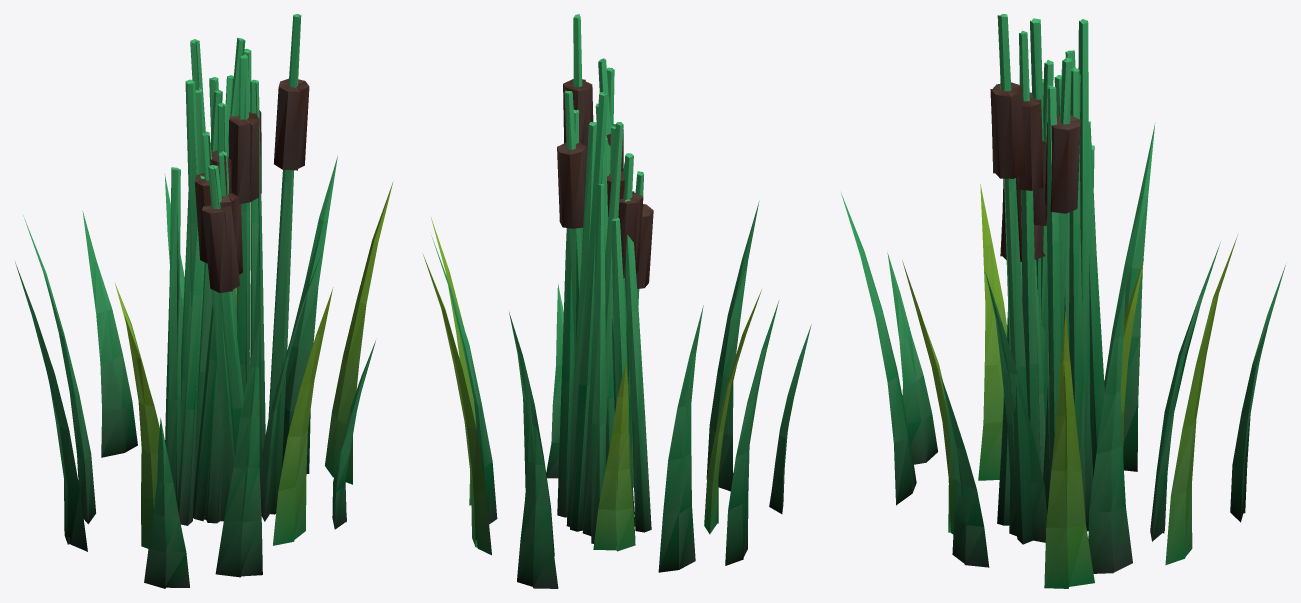
Rendered from vegetasi_reeds_emerald_369993.glb.
3 views of the same model, side by side, from view 1: azimuth 30°, elevation 25°; view 2: azimuth 150°, elevation 25°; view 3: azimuth 270°, elevation 25° (orthographic). The views are drawn at different scales.
Parts seen in each view (by area): view 1: Alang_Alang_Air_Sungai; view 2: Alang_Alang_Air_Sungai; view 3: Alang_Alang_Air_Sungai.
Boxes of the visible parts, x1=… form: Alang_Alang_Air_Sungai: x1=15, y1=14, x2=392, y2=588; Alang_Alang_Air_Sungai: x1=423, y1=14, x2=811, y2=588; Alang_Alang_Air_Sungai: x1=841, y1=14, x2=1285, y2=588.
Size of the model in its own units: 2.22 by 2.85 by 2.16.
